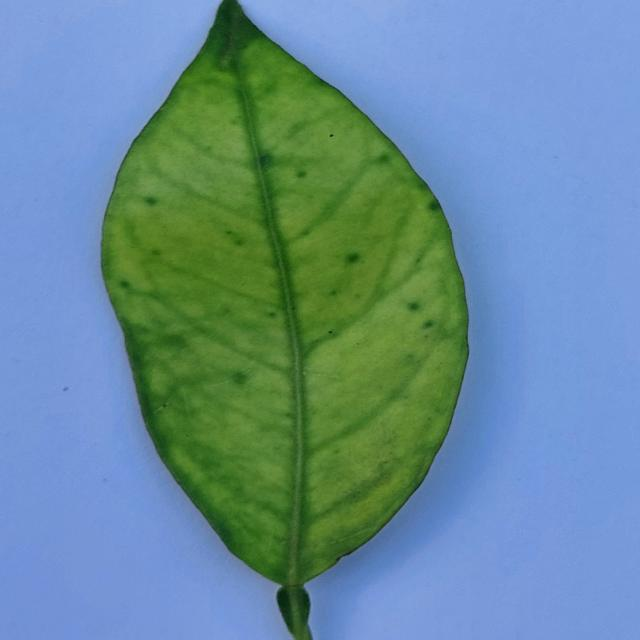greening: (102, 0, 467, 640)
